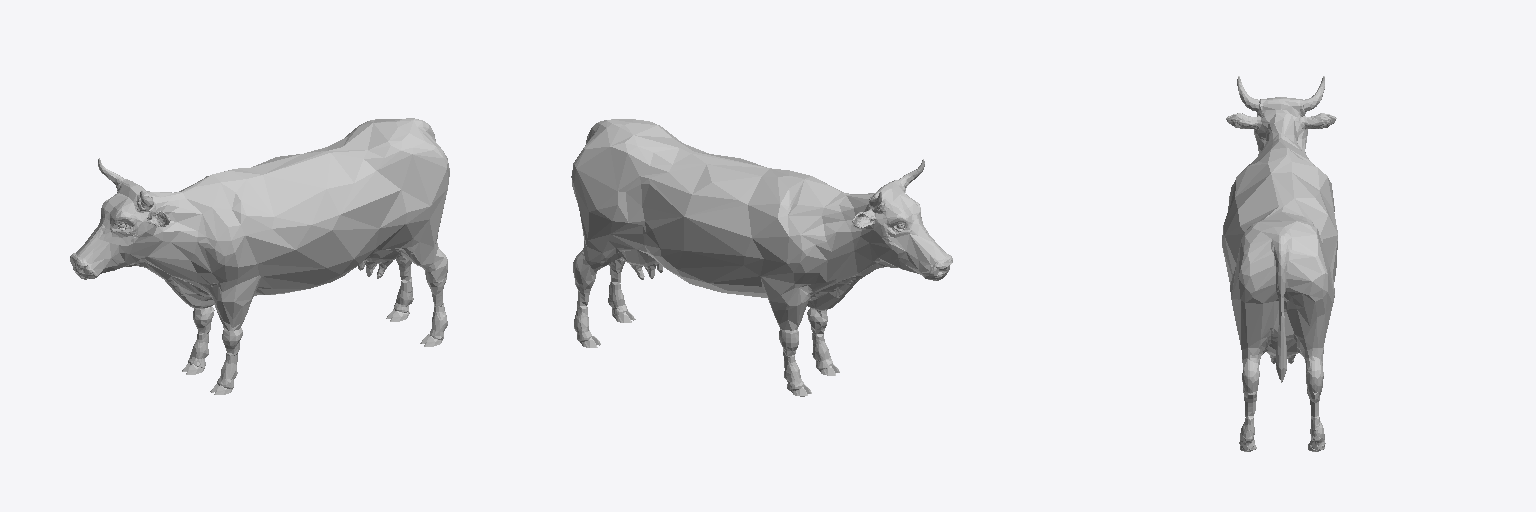
The model's file is cow_mid.obj.
3 renders of one model, left to right at view 1: azimuth 30°, elevation 25°; view 2: azimuth 150°, elevation 25°; view 3: azimuth 270°, elevation 25°, orthographic.
Parts seen in each view (by area): view 1: COWBODY; view 2: COWBODY; view 3: COWBODY, COWcuern.
Part boxes in pixels (left/top/right/bottom): COWBODY: left=70, top=118, right=449, bottom=388; COWBODY: left=571, top=119, right=952, bottom=391; COWBODY: left=1222, top=97, right=1337, bottom=449; COWcuern: left=1237, top=76, right=1324, bottom=111.
Bounding box in the file's own units: 2.44 × 1.46 × 0.6769.